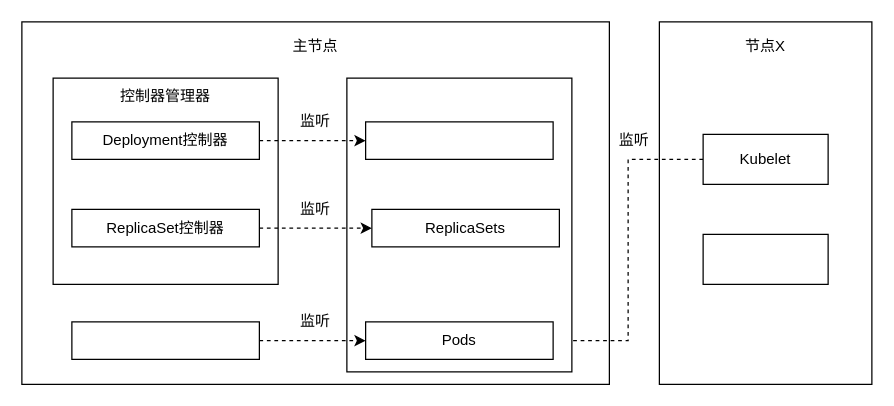
Image size: 894x406. Some labels were removed from this diagram. The shapes that lost their labels are listed below. From the top down, each one's centre as x and y in pixels, then its label:
the point at 458,140: Deployments
the point at 765,258: Docker
the point at 165,340: 调度器
